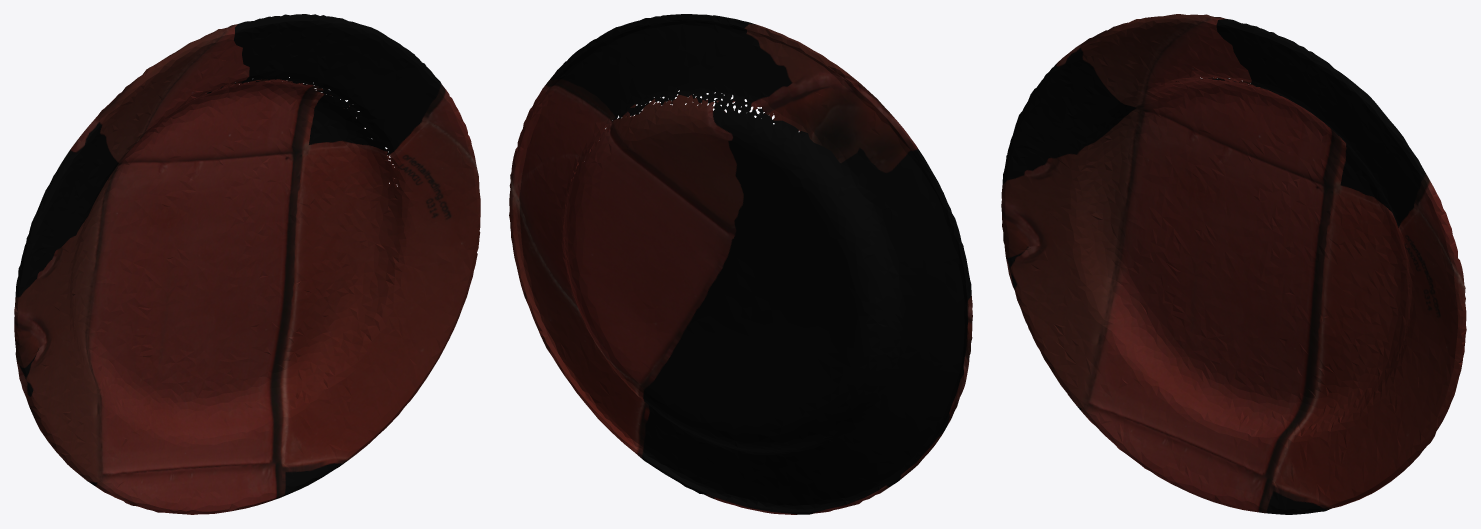
The picture shows the model from 3 angles, left to right: view 1: azimuth 30°, elevation 25°; view 2: azimuth 150°, elevation 25°; view 3: azimuth 330°, elevation 25°; orthographic projection.
Size of the model in its own units: 0.2601 by 0.26 by 0.0267.
